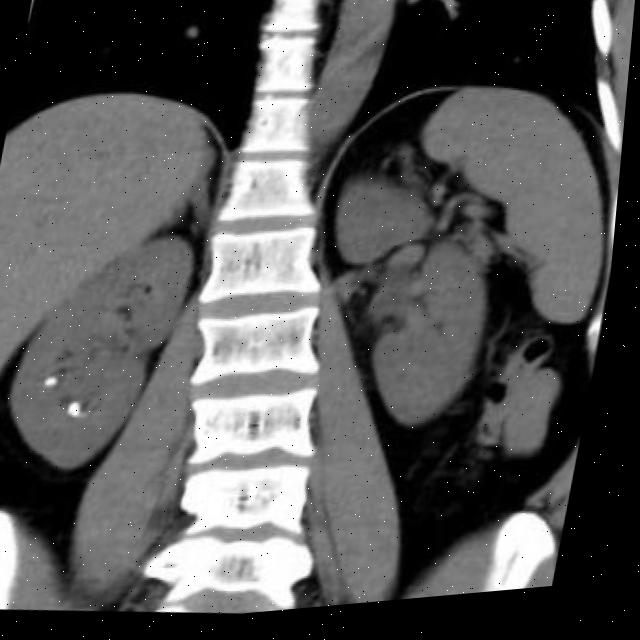Tas_Var: (69, 400, 95, 424), (49, 371, 72, 395)
